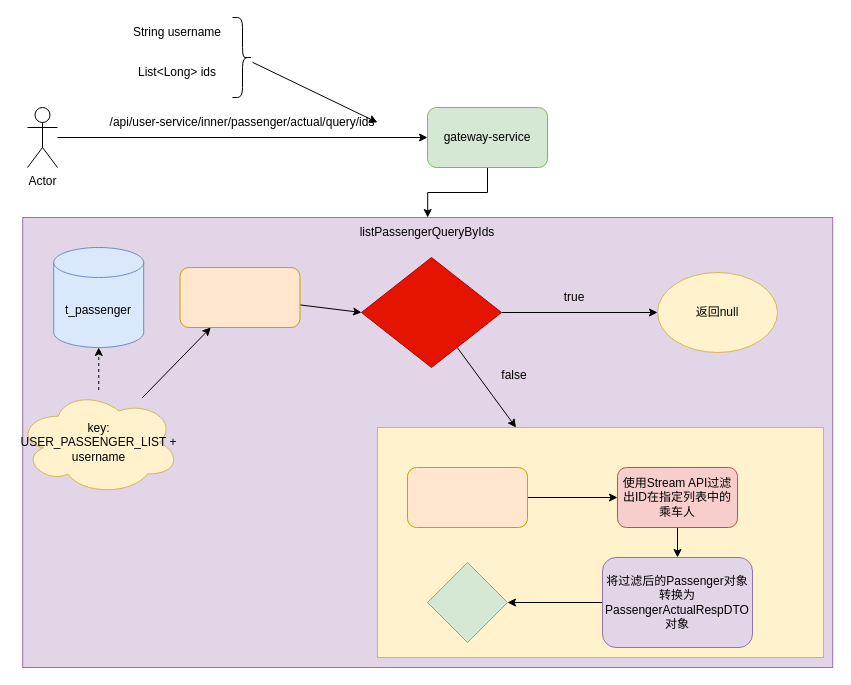
Some shapes in this 851 by 685 pixel diagram are drawn without their labels. Each missing label, with the box of its shape:
将JSON字符串解析为Passenger对象列表: (406, 466, 528, 528)
收集结果并返回: (426, 562, 508, 642)
检查字符串是否为空，如果为空则返回null: (360, 256, 502, 368)
获取用户乘车人列表的JSON字符串（从缓存或数据库）: (179, 266, 300, 328)
